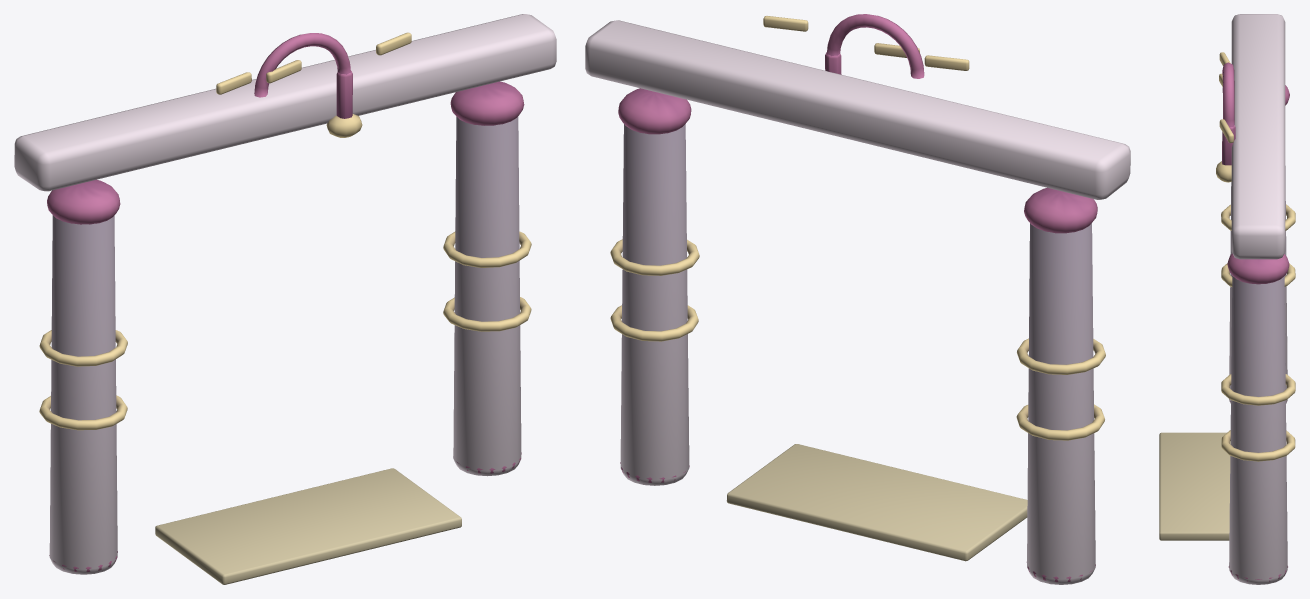
3 views of the same model, side by side, from view 1: azimuth 30°, elevation 25°; view 2: azimuth 150°, elevation 25°; view 3: azimuth 270°, elevation 25° (orthographic). The views are drawn at different scales.
Visible parts, largest first — view 1: gate_c3a61b67; view 2: gate_c3a61b67; view 3: gate_c3a61b67.
Boxes of the visible parts, x1,y1,x2,y2 form: gate_c3a61b67: (14, 14, 556, 584); gate_c3a61b67: (585, 14, 1130, 584); gate_c3a61b67: (1159, 14, 1295, 584).
Bounding box in the file's own units: 5.2 × 4.75 × 1.38.
